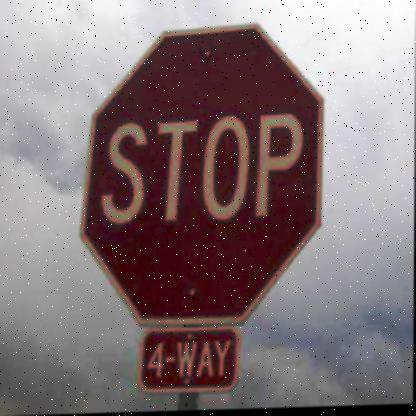Stop Sign: (79, 15, 330, 342)
